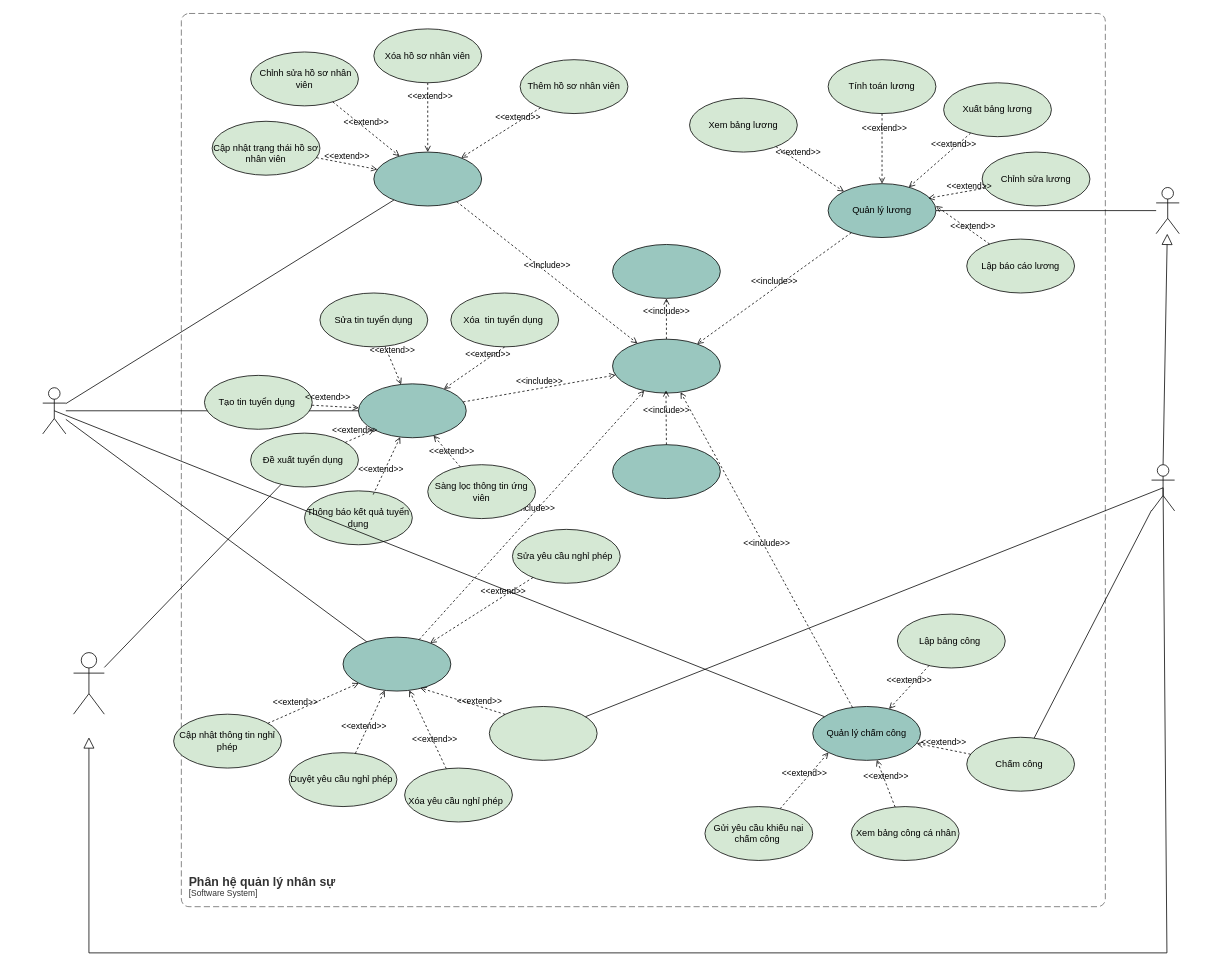
Some shapes in this 1221 by 977 pixel diagram are drawn without their labels. The centre of each missing label's shape, as x and y in pixels:
"Gửi yêu cầu nghỉ phép" goes at point (543, 733).
"Nhân viên" goes at point (1163, 487).
"Phòng ban Kế Toán" goes at point (1167, 210).
"Phòng ban Nhân sự" goes at point (54, 410).
"Quản lý hồ sơ và hợp đồng nhân viên" goes at point (427, 178).
"Quản lý nghỉ phép" goes at point (396, 663).
"Quản lý tuyển dụng" goes at point (412, 410).
"Trưởng phòng các bộ phận khác" goes at point (88, 683).
"Tạo tài khoản" goes at point (666, 271).
"Đăng nhập" goes at point (666, 365).
"Đăng xuất" goes at point (666, 471).
